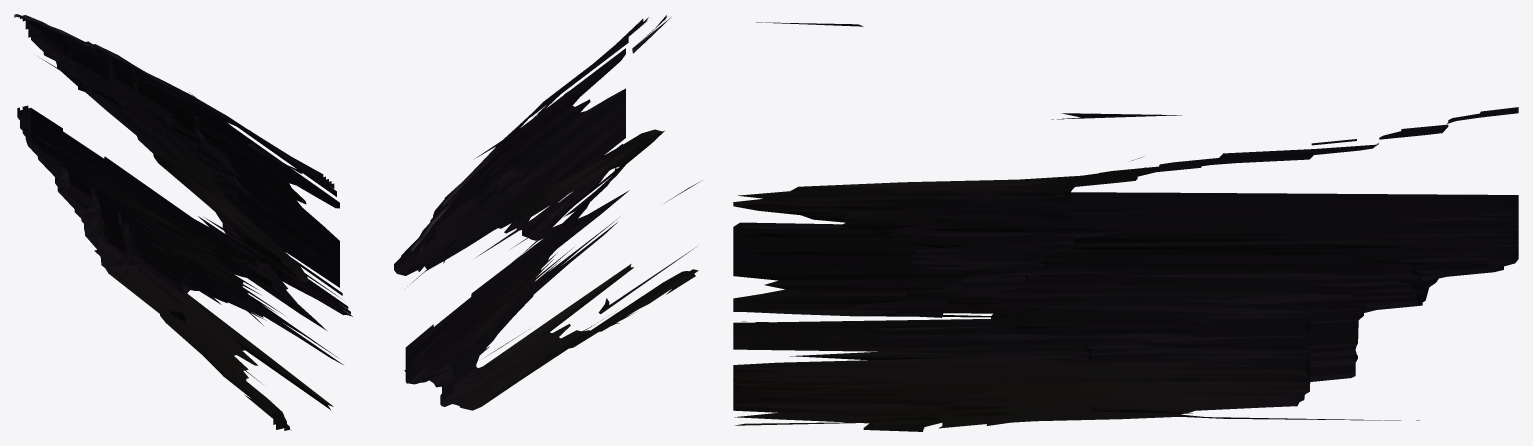
File: frame_00284.glb
3 renders of one model, left to right at view 1: azimuth 30°, elevation 25°; view 2: azimuth 150°, elevation 25°; view 3: azimuth 270°, elevation 25°, orthographic. The views are drawn at different scales.
Parts seen in each view (by area): view 1: geometry_0; view 2: geometry_0; view 3: geometry_0.
Part boxes in pixels (x1,y1,x2,y2): geometry_0: (14, 14, 352, 430); geometry_0: (394, 15, 702, 410); geometry_0: (733, 22, 1518, 431).
Size of the model in its own units: 0.0327 by 0.0893 by 0.16.
1 material, 1 textured.
